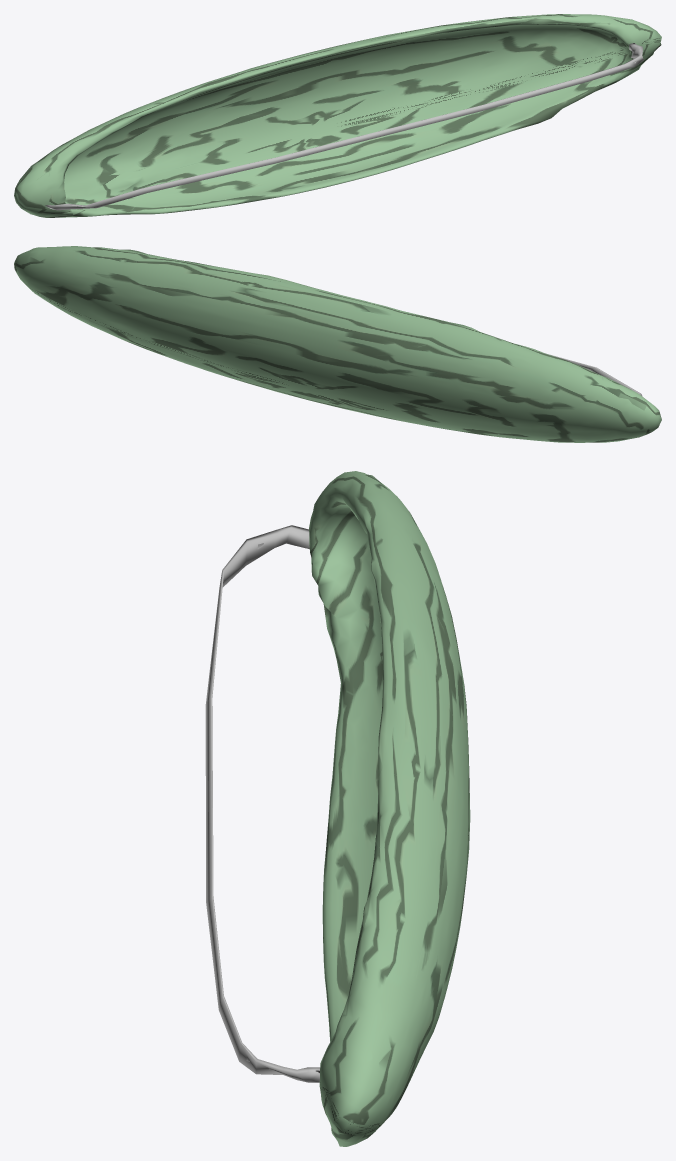
File: item-army-helmet.glb
3 renders of one model, top to bottom at view 1: azimuth 30°, elevation 25°; view 2: azimuth 150°, elevation 25°; view 3: azimuth 270°, elevation 25°, orthographic. The views are drawn at different scales.
Bounding box in the file's own units: 2.55 × 0.4564 × 0.4533.
Materials: 2 (2 with a texture image).
